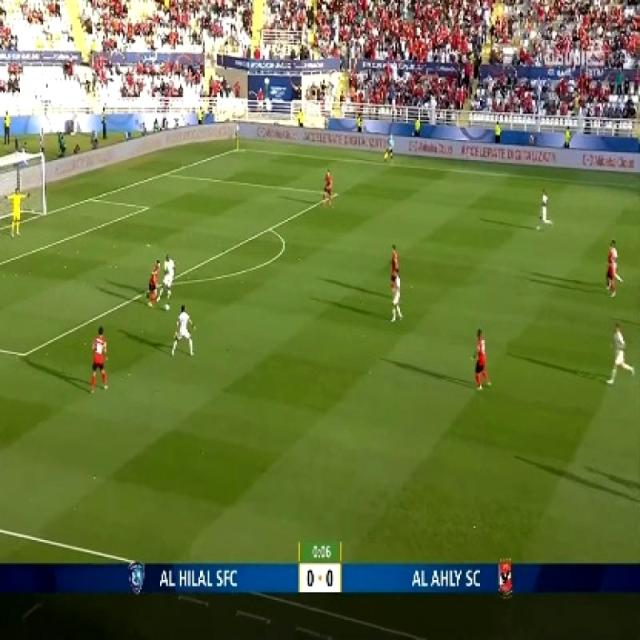bigarea_bottom_inner: (12, 340, 32, 368)
bigarea_top_inner: (328, 185, 342, 200)
bigarea_top_outter: (157, 166, 171, 180)
bottom_arc_area_intersection: (132, 286, 146, 304)
corner: (230, 141, 244, 154)
smallarea_top_inner: (139, 200, 151, 214)
smallarea_top_outter: (82, 190, 95, 204)
top_arc_area_intersection: (261, 218, 276, 236)
